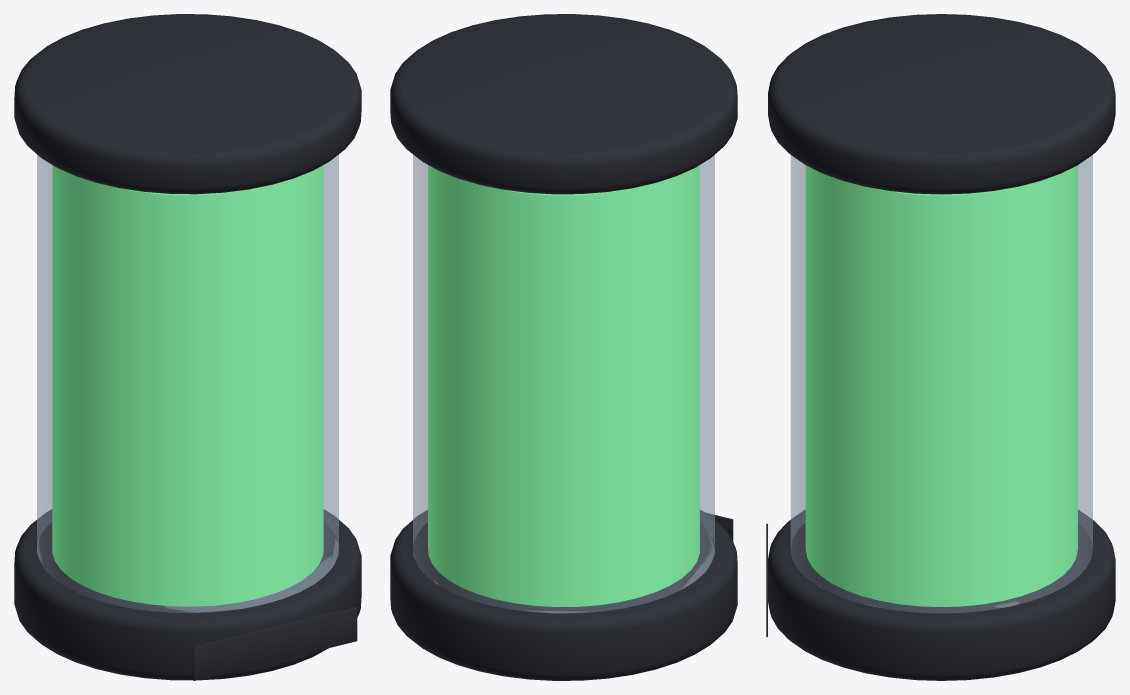
File: tanque.glb
3 views of the same model, side by side, from view 1: azimuth 30°, elevation 25°; view 2: azimuth 150°, elevation 25°; view 3: azimuth 270°, elevation 25° (orthographic).
Visible parts, largest first — view 1: tanque_vidro, Cylinder.001, Cylinder.002, Cylinder, tanque_face; view 2: tanque_vidro, Cylinder.001, Cylinder.002, Cylinder; view 3: tanque_vidro, Cylinder.001, Cylinder.002, Cylinder.
Part boxes in pixels (box(x1,y1,x2,y2)): tanque_vidro: box(37, 154, 338, 612); Cylinder.001: box(52, 165, 323, 606); Cylinder.002: box(14, 14, 361, 194); Cylinder: box(14, 509, 361, 680); tanque_face: box(193, 607, 357, 680); tanque_vidro: box(413, 155, 714, 613); Cylinder.001: box(428, 165, 699, 606); Cylinder.002: box(390, 14, 737, 194); Cylinder: box(390, 510, 737, 680); tanque_vidro: box(790, 155, 1092, 613); Cylinder.001: box(805, 165, 1077, 606); Cylinder.002: box(768, 14, 1115, 194); Cylinder: box(768, 510, 1115, 680).
Bounding box in the file's own units: 0.92 × 1.54 × 0.924.
